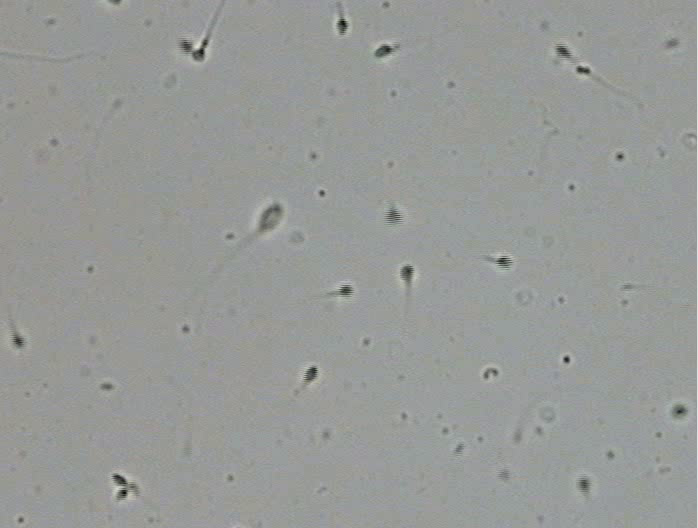S: (256, 203, 285, 231), (384, 208, 403, 227), (554, 43, 572, 60), (374, 44, 394, 58), (303, 366, 319, 383), (399, 264, 415, 281), (495, 255, 513, 270), (10, 332, 26, 348), (336, 17, 349, 35), (111, 473, 128, 486), (179, 39, 193, 53), (192, 48, 206, 62), (339, 284, 354, 297), (577, 477, 590, 492), (672, 405, 686, 418), (575, 65, 591, 74), (116, 489, 127, 499)
